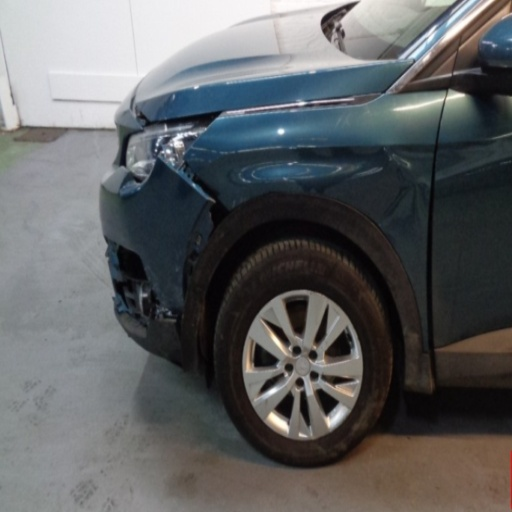dent: (377, 183, 416, 230), (415, 178, 430, 235)
scratch: (187, 139, 321, 158)
